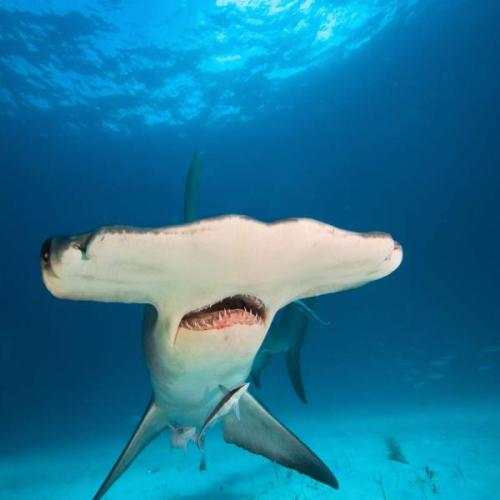shark-endangered: (0, 150, 404, 500)
